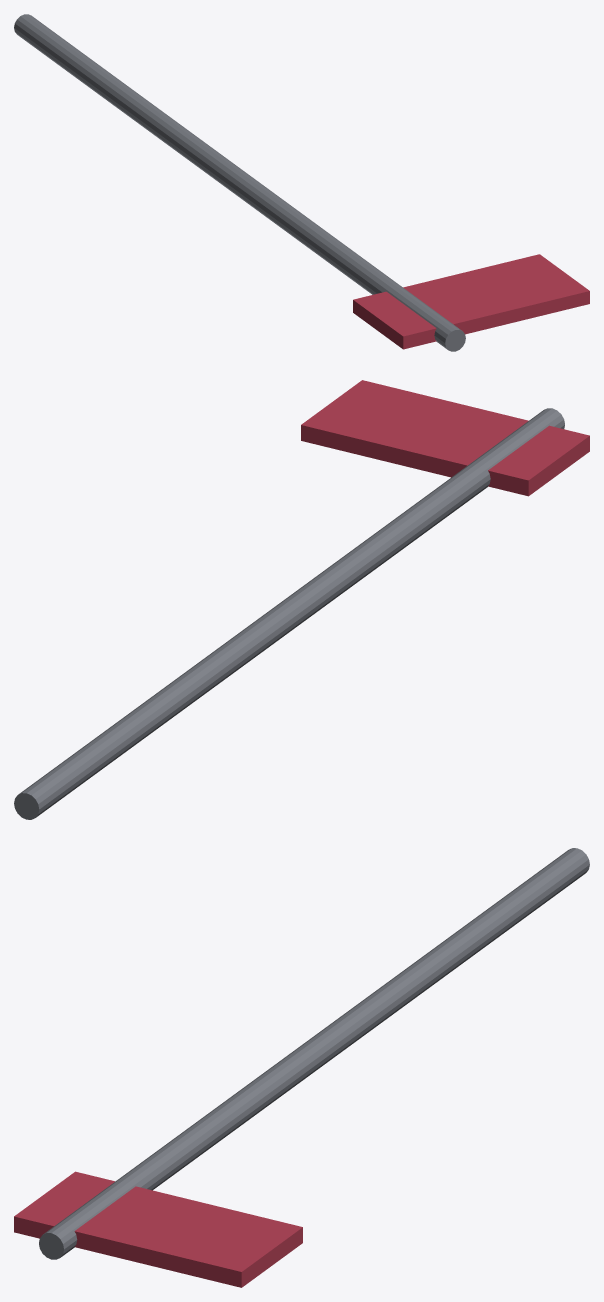
The model's file is sign_post_v01.glb.
The picture shows the model from 3 angles, top to bottom: view 1: azimuth 30°, elevation 25°; view 2: azimuth 150°, elevation 25°; view 3: azimuth 330°, elevation 25°; orthographic projection. The views are drawn at different scales.
Parts seen in each view (by area): view 1: cylinder_0, box_1; view 2: cylinder_0, box_1; view 3: cylinder_0, box_1.
Part boxes in pixels (bbox=[...]): cylinder_0: bbox=[14, 14, 465, 351]; box_1: bbox=[353, 254, 589, 349]; cylinder_0: bbox=[14, 408, 564, 819]; box_1: bbox=[301, 380, 589, 496]; cylinder_0: bbox=[39, 848, 589, 1259]; box_1: bbox=[14, 1171, 302, 1287].
Size of the model in its own units: 0.9 by 0.1 by 3.6.
